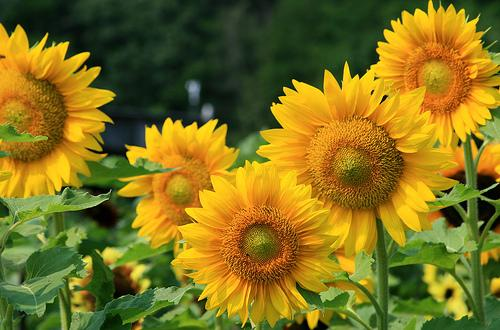sunflower: (259, 64, 463, 256), (169, 160, 342, 326), (1, 22, 116, 200), (370, 1, 500, 142), (122, 120, 240, 241)
